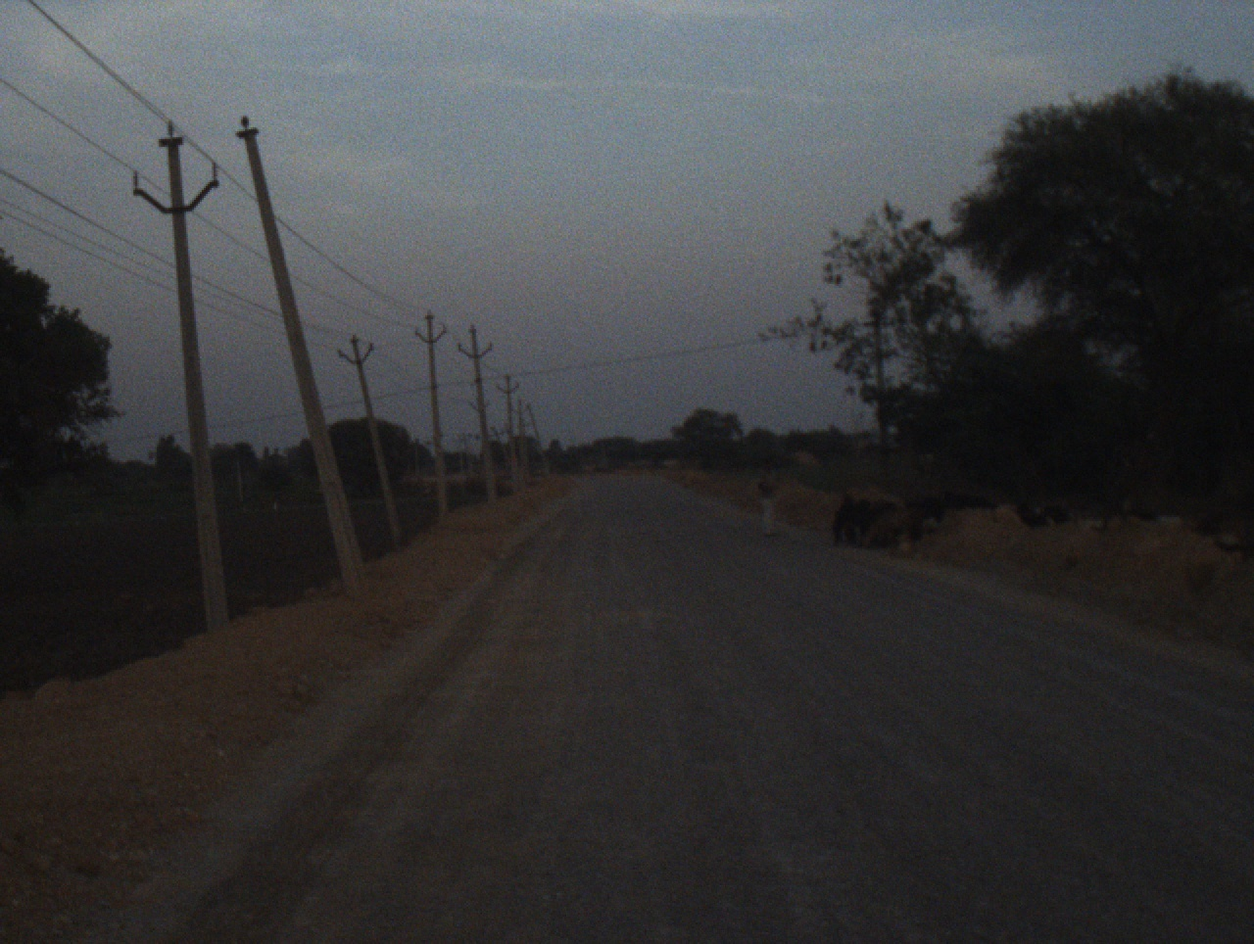animal: (837, 483, 875, 547), (891, 492, 936, 535), (1001, 490, 1059, 522)
person: (751, 456, 778, 543)
